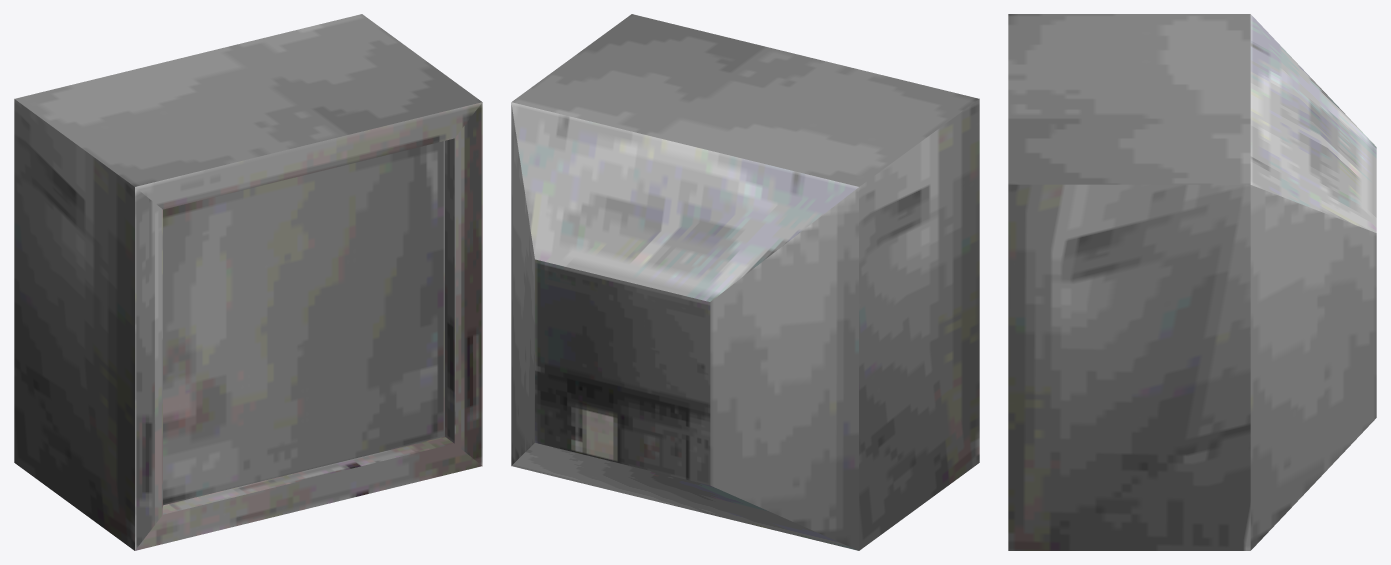
The model's file is PSX TV.fbx.
3 renders of one model, left to right at view 1: azimuth 30°, elevation 25°; view 2: azimuth 150°, elevation 25°; view 3: azimuth 270°, elevation 25°, orthographic.
Visible parts, largest first — view 1: PSX TV; view 2: PSX TV; view 3: PSX TV.
Boxes of the visible parts, <box> form: PSX TV: <box>14,14,482,550</box>; PSX TV: <box>511,14,979,550</box>; PSX TV: <box>1008,14,1376,550</box>.
Bounding box in the file's own units: 200 × 200 × 182.
